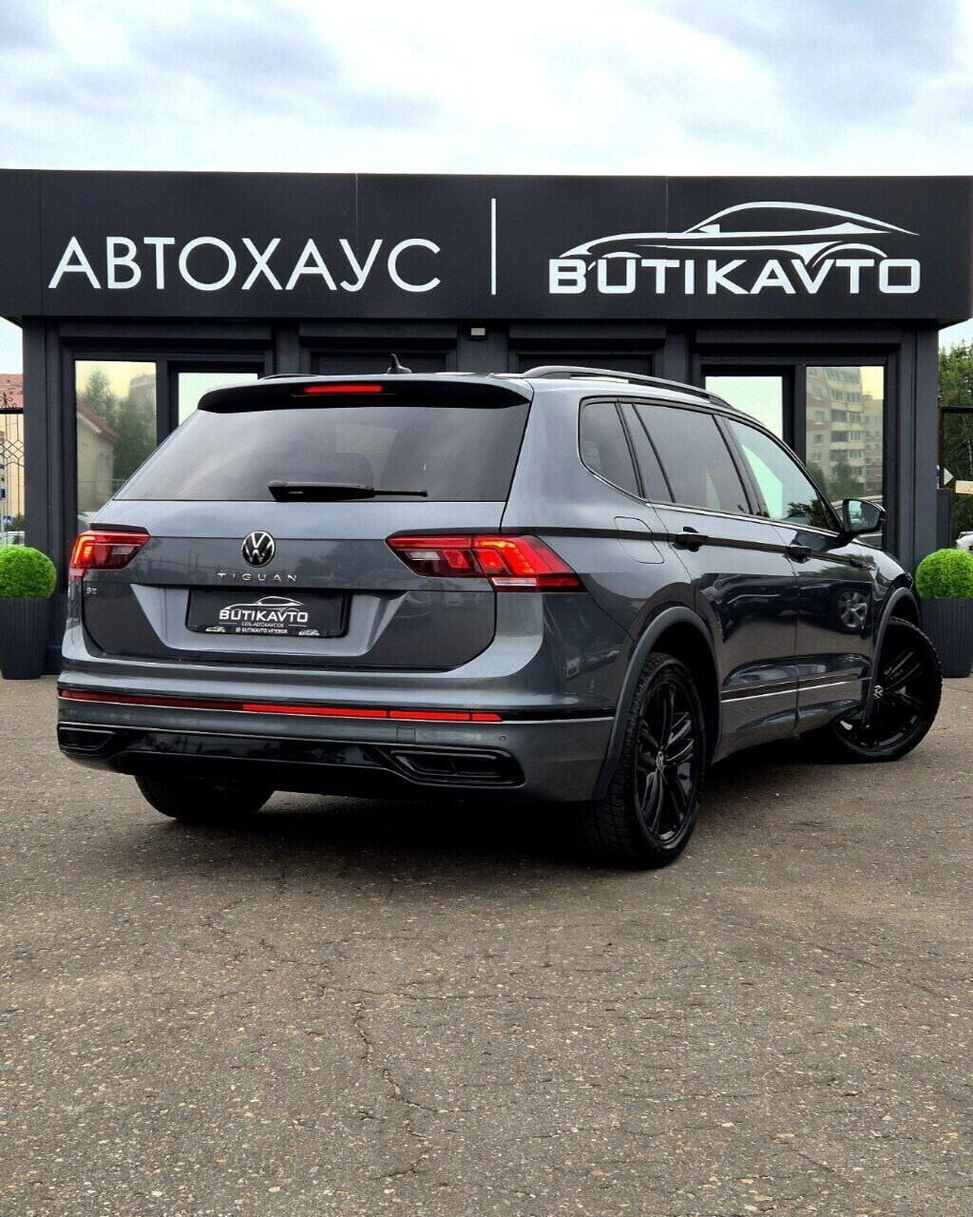Tiguan_2020-2024: (55, 364, 953, 867)
